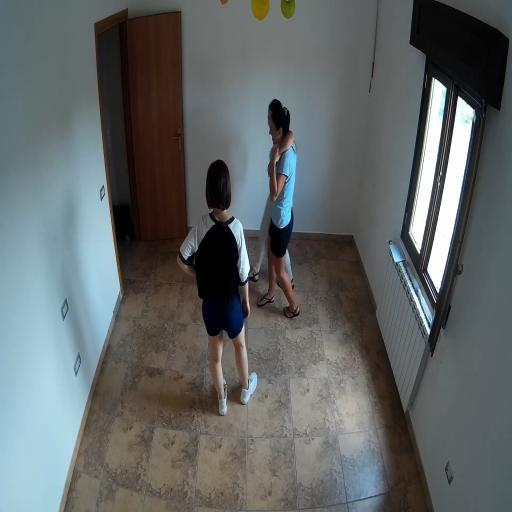nao-violencia: (243, 95, 314, 328)
